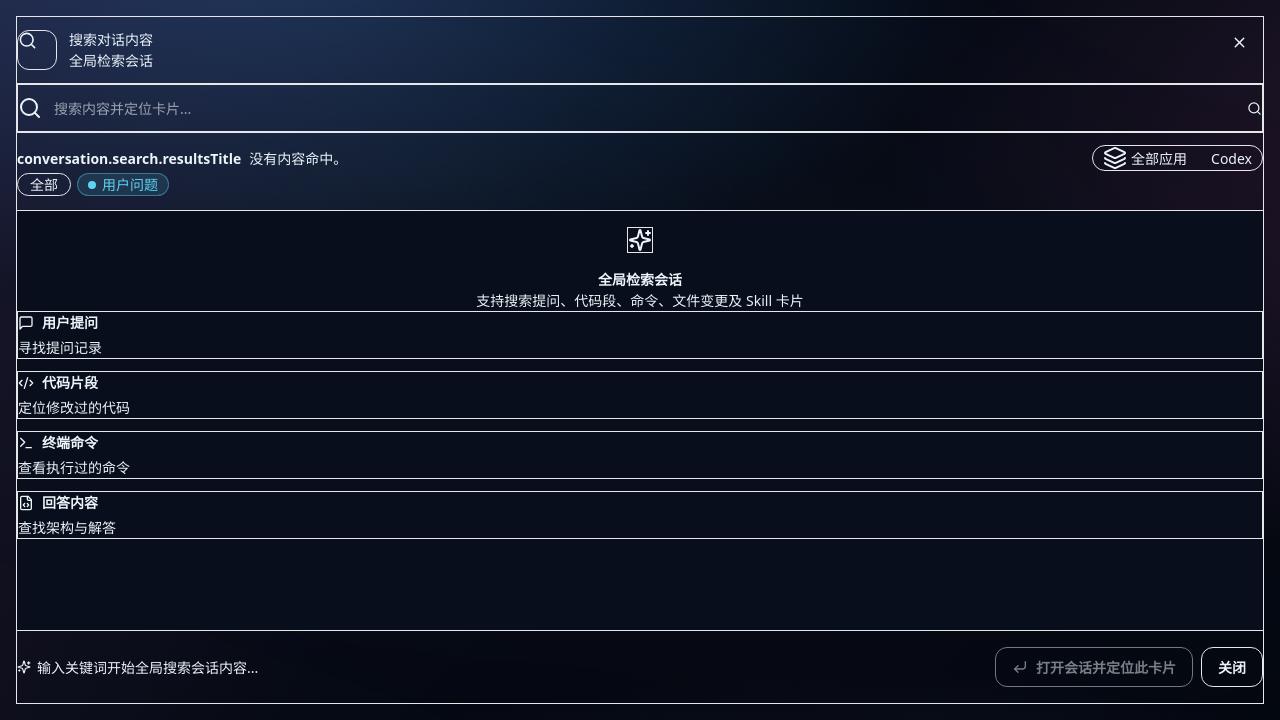
it: ConversationSearchDialog › discards staged filter changes when Escape is pressed without search text
The image size is (1280, 720).
Click the button "Codex" at (1232, 158), box [1201,146,1262,170]
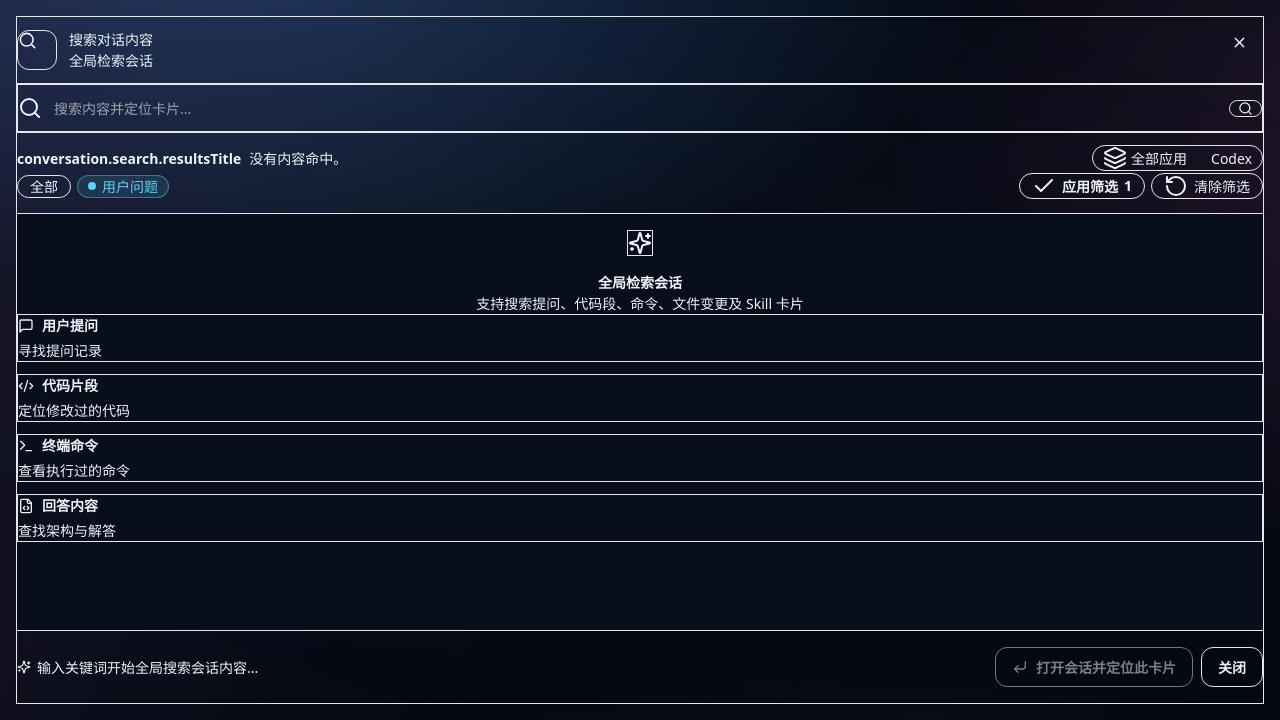
Result: the button "应用筛选 1" is shown at [1019,173,1145,199]
Press Escape to discard
Press Escape in the search field, box [54,98,1217,118]
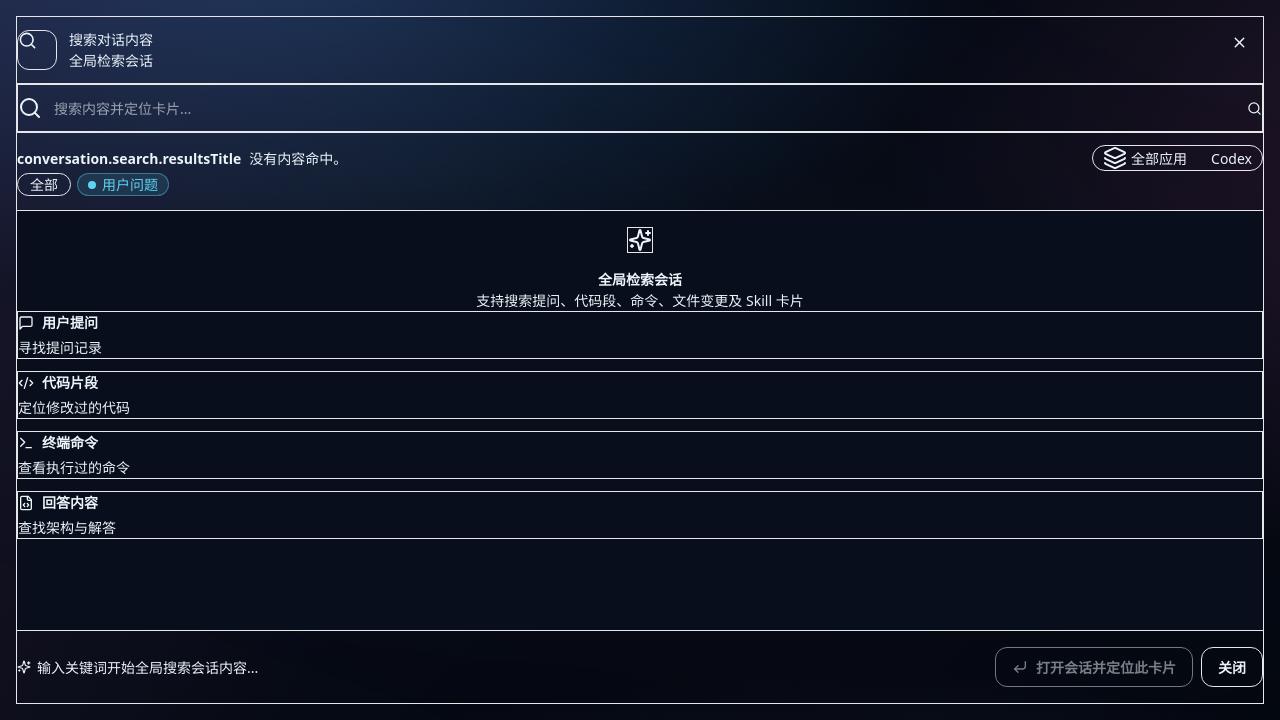
Result: the button "应用筛选" is gone
